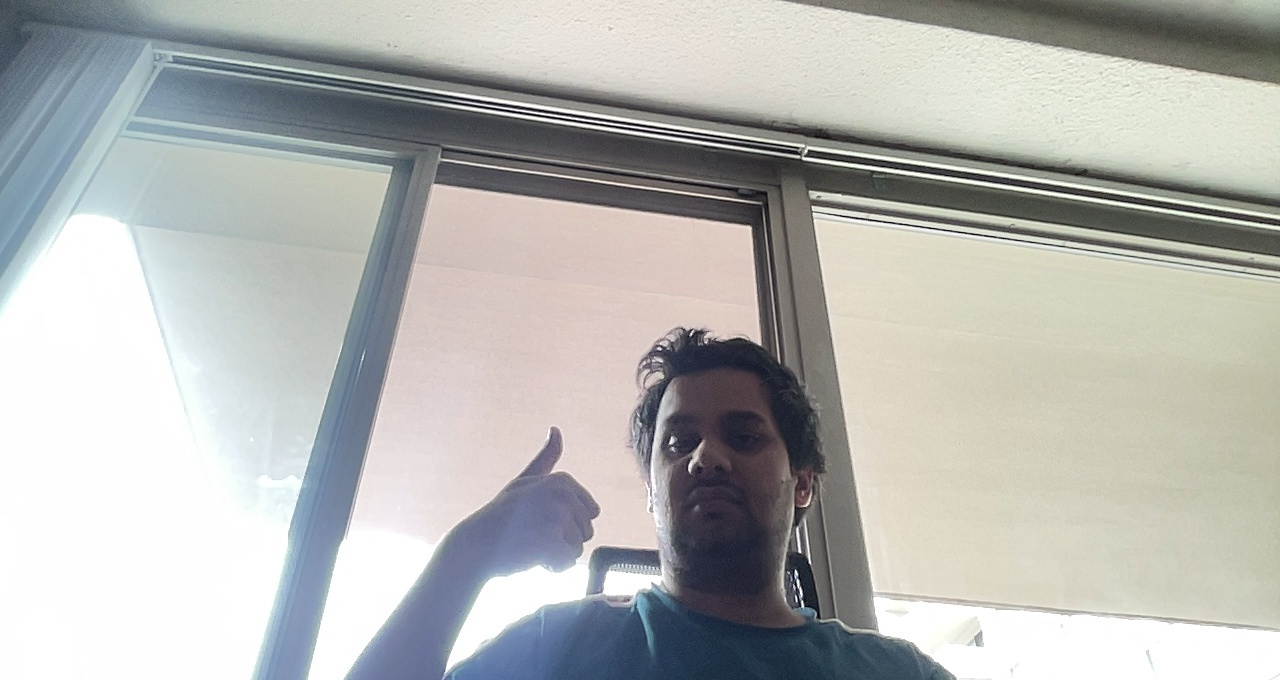thumbsup: (455, 414, 612, 582)
